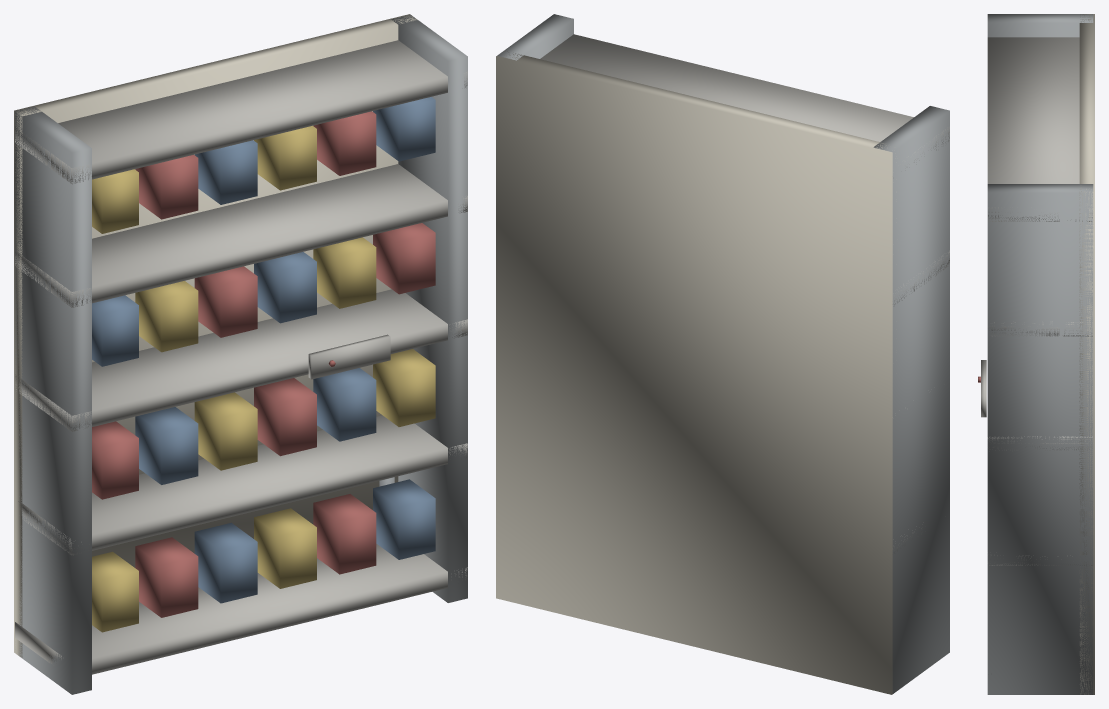
The model's file is pharmacy_shelf__reinforced.glb.
The picture shows the model from 3 angles, left to right: view 1: azimuth 30°, elevation 25°; view 2: azimuth 150°, elevation 25°; view 3: azimuth 270°, elevation 25°; orthographic projection. The views are drawn at different scales.
Parts seen in each view (by area): view 1: world; view 2: world; view 3: world.
Boxes of the visible parts, x1,y1,x2,y2 form: world: [14, 14, 467, 694]; world: [496, 14, 949, 694]; world: [978, 14, 1094, 694].
Size of the model in its own units: 1.44 by 1.89 by 0.3976.
